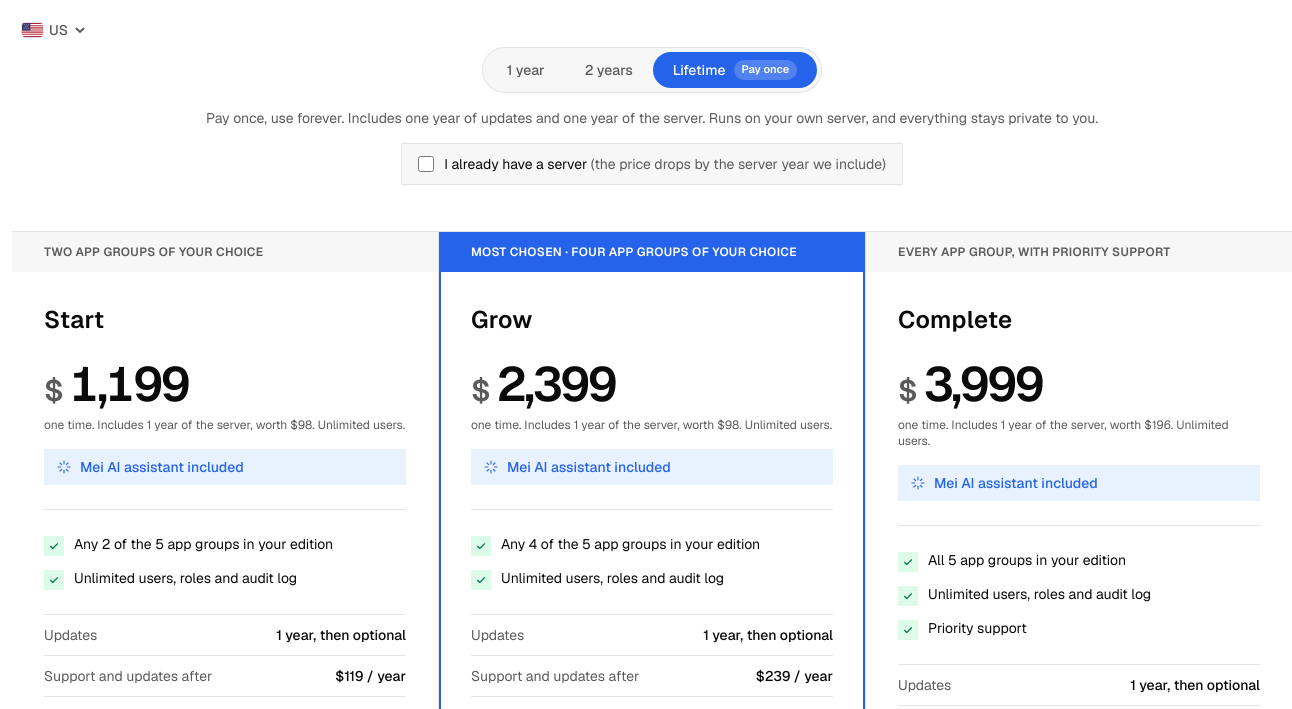
currency › lets the visitor pick another region, and remembers it over the detected one
Click the button with aria-label "region: united states" at (54, 30), box [12, 12, 96, 48]
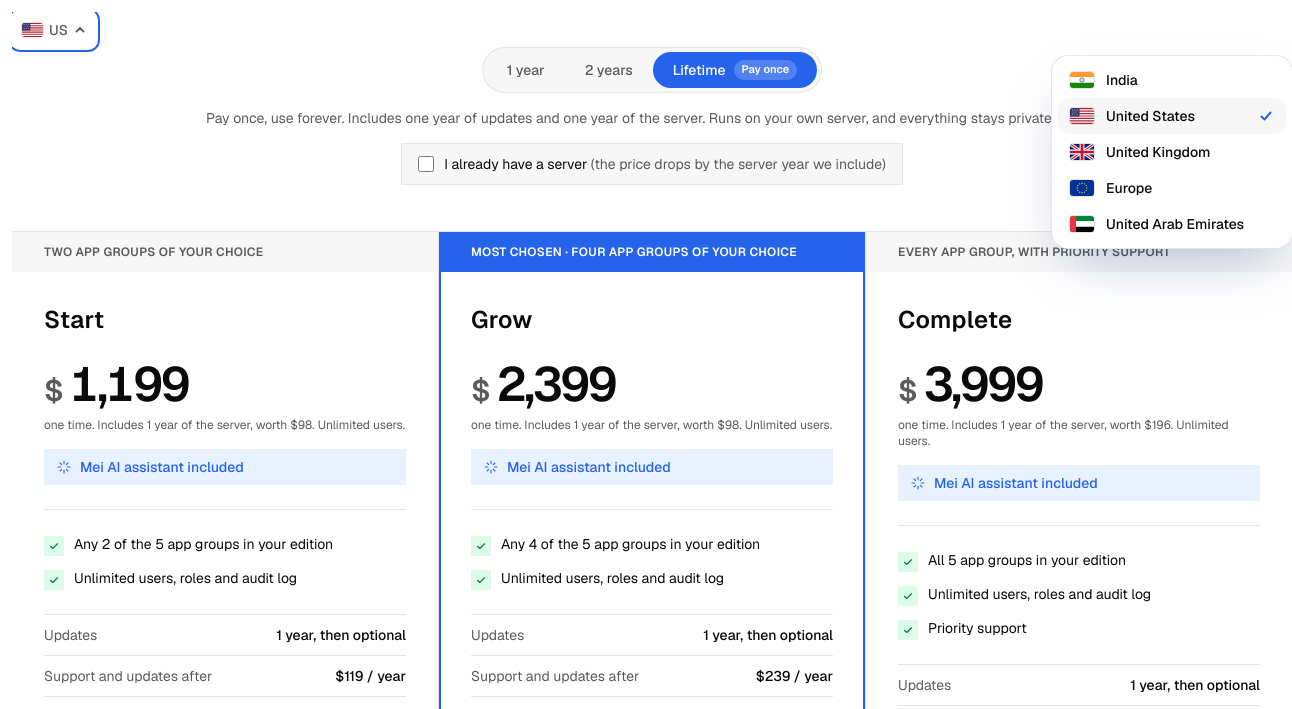
Click the button "United Arab Emirates" at (1172, 224), box [1058, 206, 1286, 242]
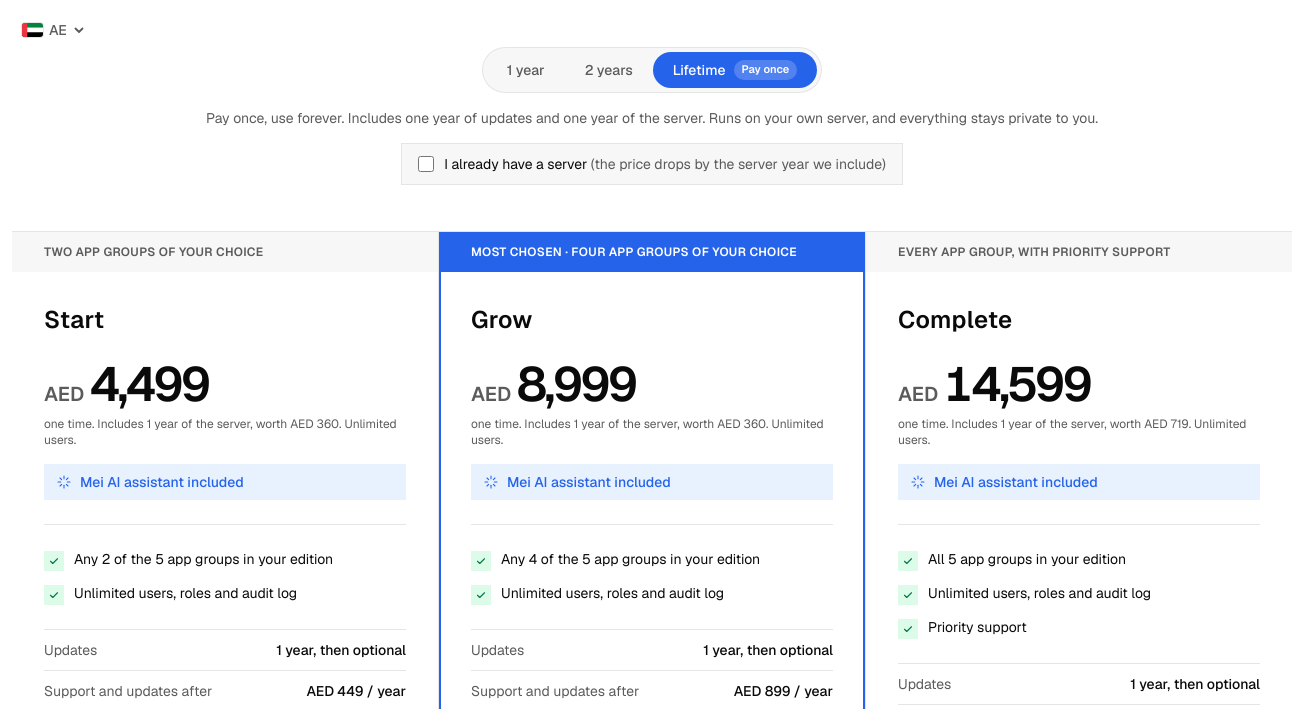
Now the text "AED" next to "4,499" is shown, box [44, 381, 84, 407]
